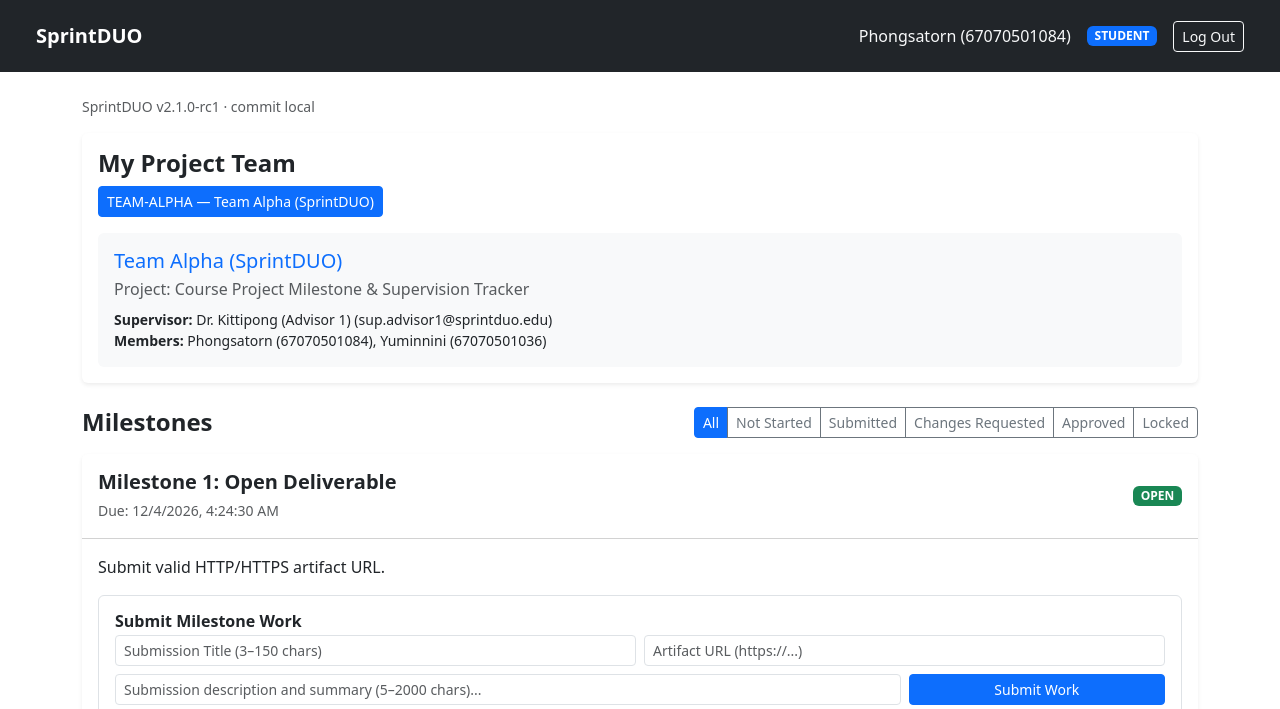
SprintDUO Client UI — TEST-03 & TEST-04 Student Submission & Persisted View › TEST-04: displays error alert (role='alert') when submitting with invalid URL and hides submit form on PAST DUE milestone (#33)
Step 1. Type "Invalid Link Attempt" into the field with test id "submission-title-101" → (376, 650), box [115, 635, 636, 666]
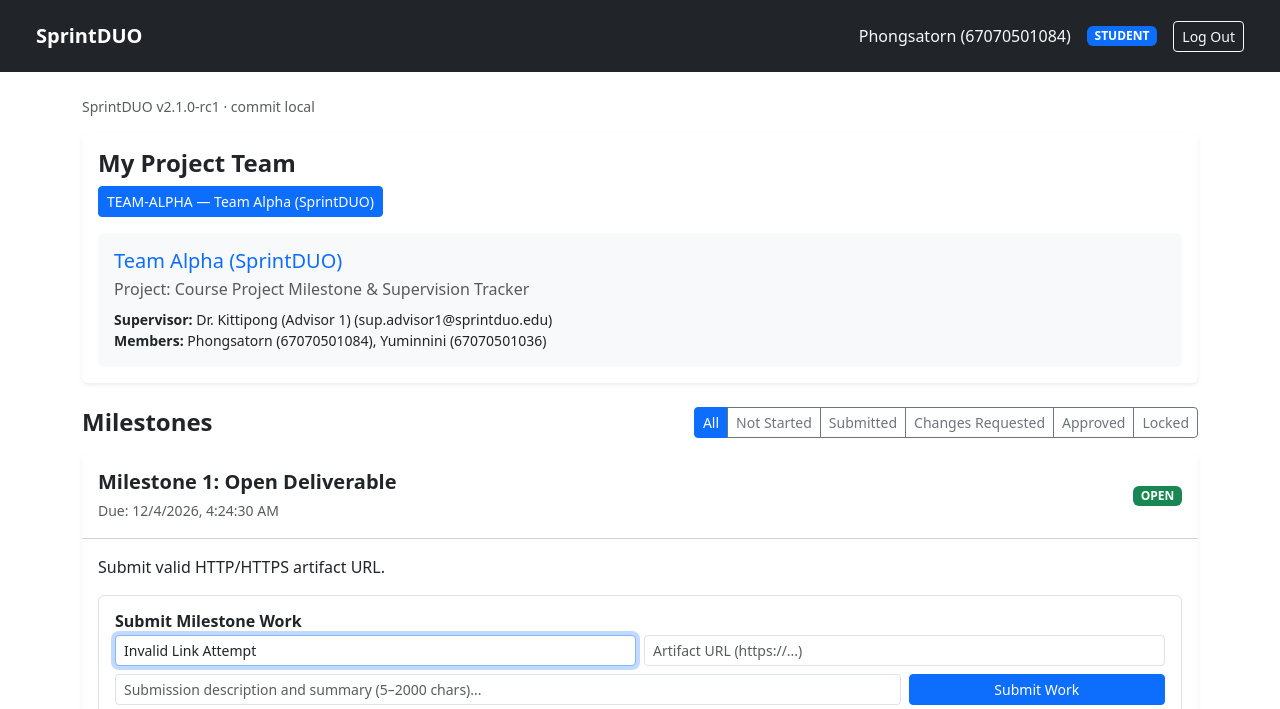
Step 2. Type "ftp://invalid-url" into the field with test id "submission-url-101" → (904, 650), box [644, 635, 1165, 666]
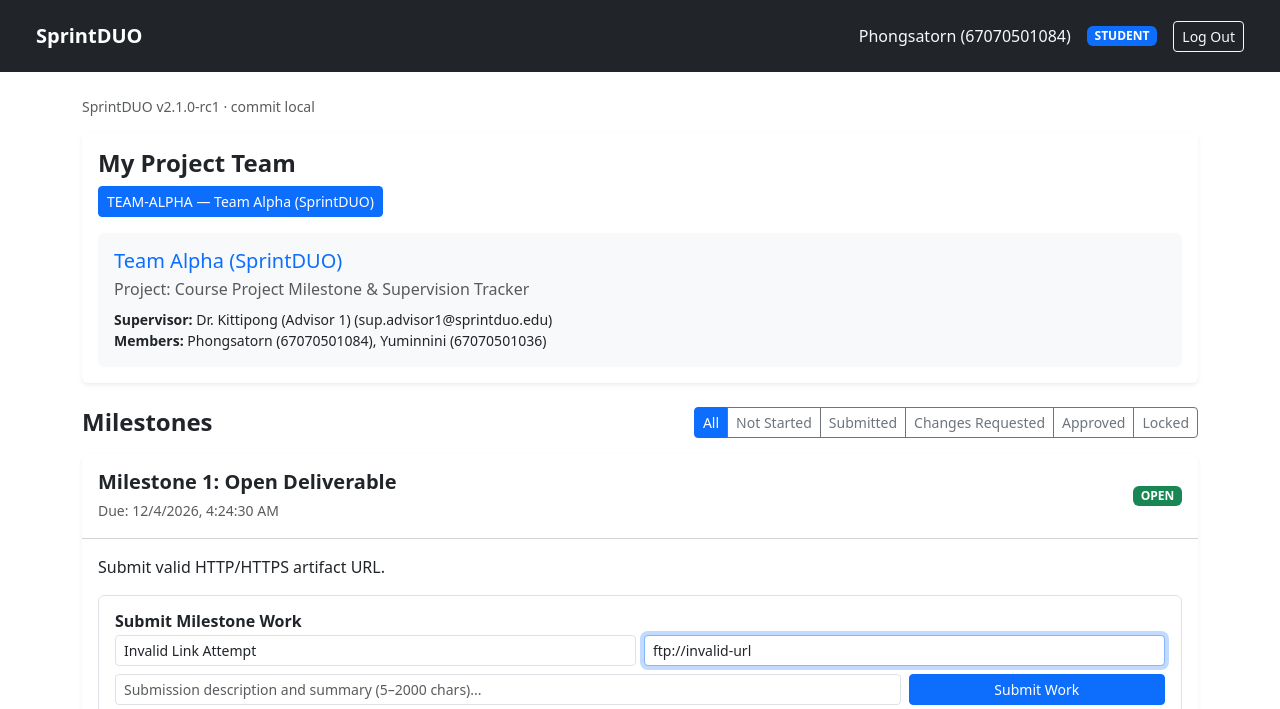
Step 3. Type "Testing validation error alert" into the field with test id "submission-desc-101" → (508, 690), box [115, 674, 900, 705]
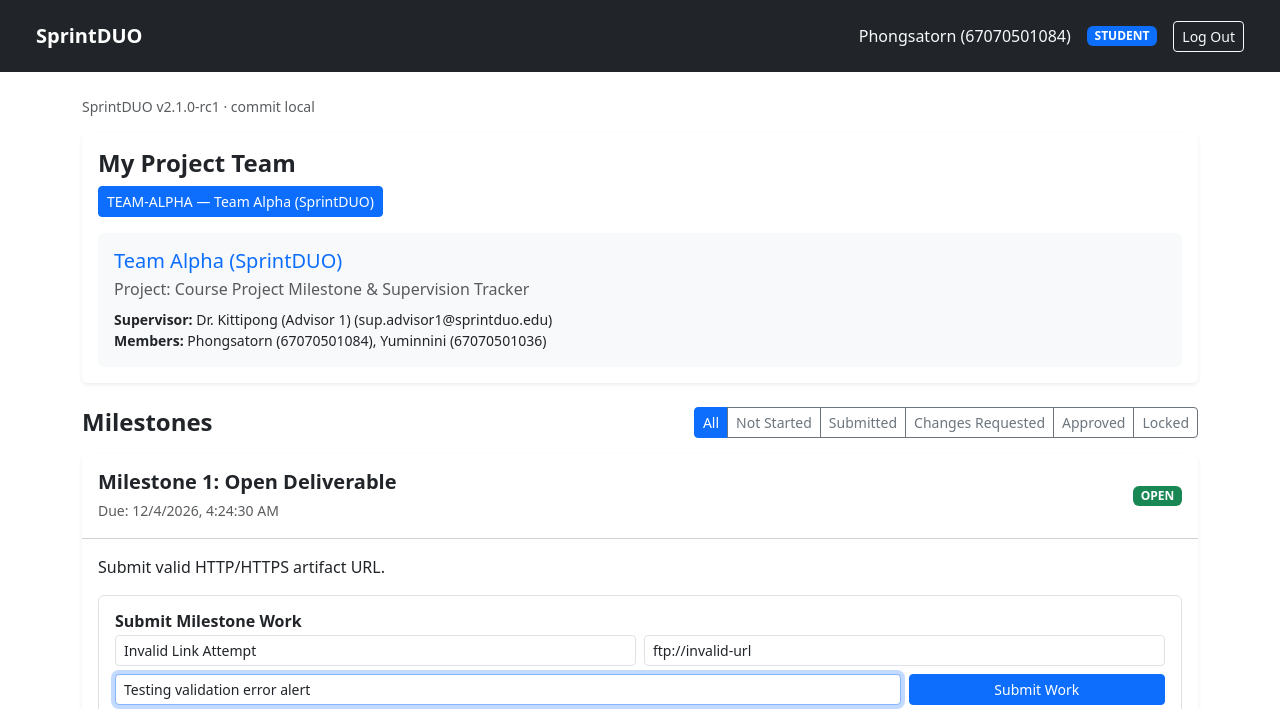
Step 4. Click the button with test id "submission-submit-101" → (1037, 690), box [908, 674, 1165, 705]
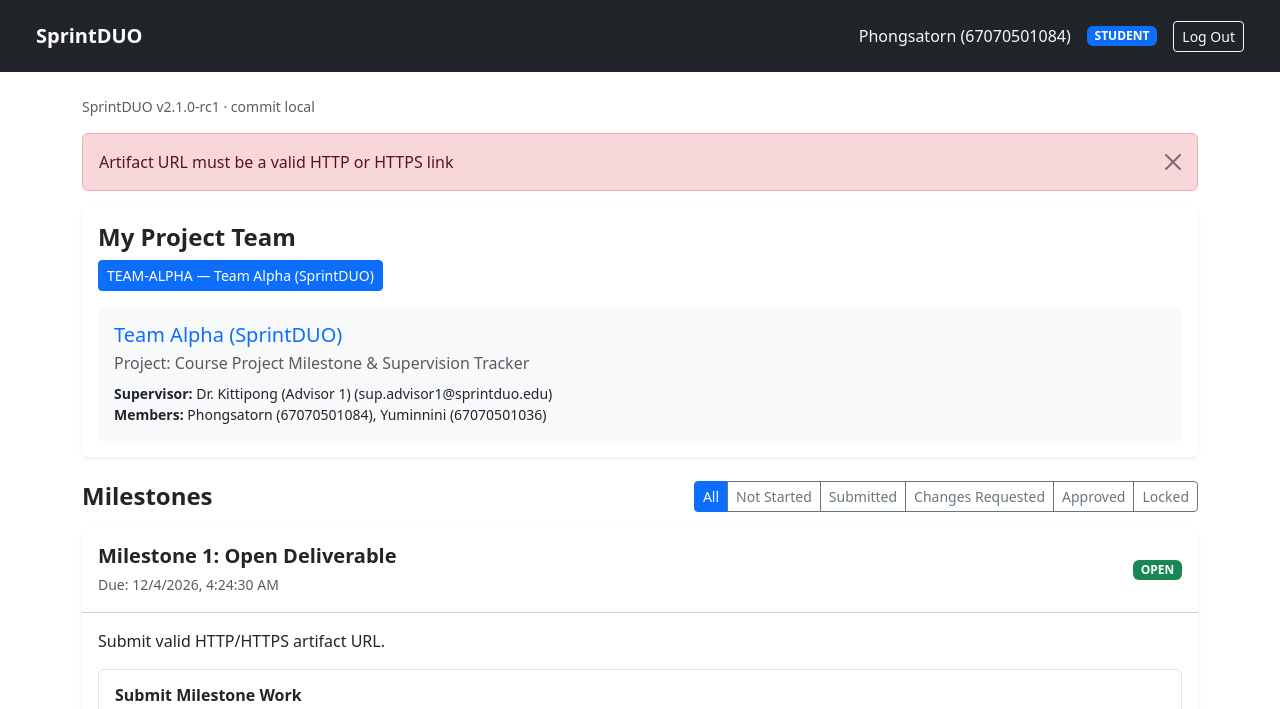
Expected: the message reads "Artifact URL must be a valid HTTP or HTTPS link", [99, 151, 454, 173]
